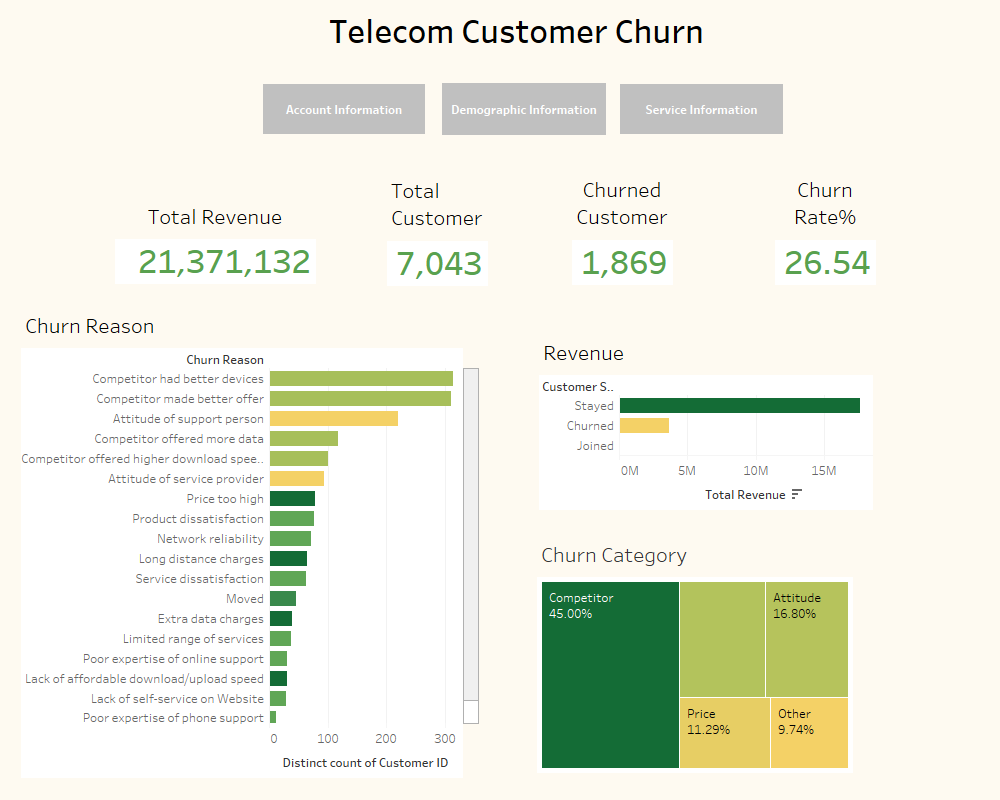

This screenshot's page, from the dashboard's own definition file:
{"tool":"tableau","page":{"name":"Customer Churn Overview","canvas":[1000,800],"ordinal":1},"visuals":[{"type":"blank","box":[0,0,1000,800]},{"type":"text","box":[271,8,491,44]},{"type":"dashboard-object","box":[442,83,164,52]},{"type":"dashboard-object","box":[263,84,162,50]},{"type":"dashboard-object","box":[620,84,163,50]},{"type":"worksheet","title":"Number of Churned Customer","mark":"Automatic","box":[572,169,247,131]},{"type":"worksheet","title":"Total Customer","mark":"Automatic","box":[387,170,197,148]},{"type":"worksheet","title":"Total Revenue","mark":"Automatic","box":[115,196,217,92]},{"type":"worksheet","title":"Churn Reason","mark":"Automatic","rows":["Churn Reason"],"cols":["Customer ID"],"box":[21,305,458,473]},{"type":"worksheet","title":"Revenue","mark":"Automatic","rows":["Customer Status"],"cols":["Total Revenue"],"box":[539,332,333,197]},{"type":"worksheet","title":"Churn Category","mark":"Automatic","box":[537,534,436,239]}]}

Visuals, with their boxes in screenshot pixels (x1, y1, x2, y2), scaled from the page's 1000x800 canvas onto the 1000x800 screenshot:
blank: Rect(0, 0, 999, 799)
text: Rect(271, 8, 762, 52)
dashboard-object: Rect(442, 83, 606, 135)
dashboard-object: Rect(263, 84, 425, 134)
dashboard-object: Rect(620, 84, 783, 134)
"Number of Churned Customer" worksheet: Rect(572, 169, 819, 300)
"Total Customer" worksheet: Rect(387, 170, 584, 318)
"Total Revenue" worksheet: Rect(115, 196, 332, 288)
"Churn Reason" worksheet: Rect(21, 305, 479, 778)
"Revenue" worksheet: Rect(539, 332, 872, 529)
"Churn Category" worksheet: Rect(537, 534, 973, 773)
